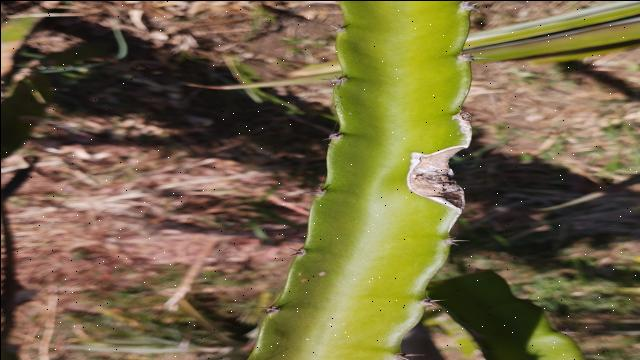stemcanker: (312, 268, 330, 281), (298, 273, 313, 287)
